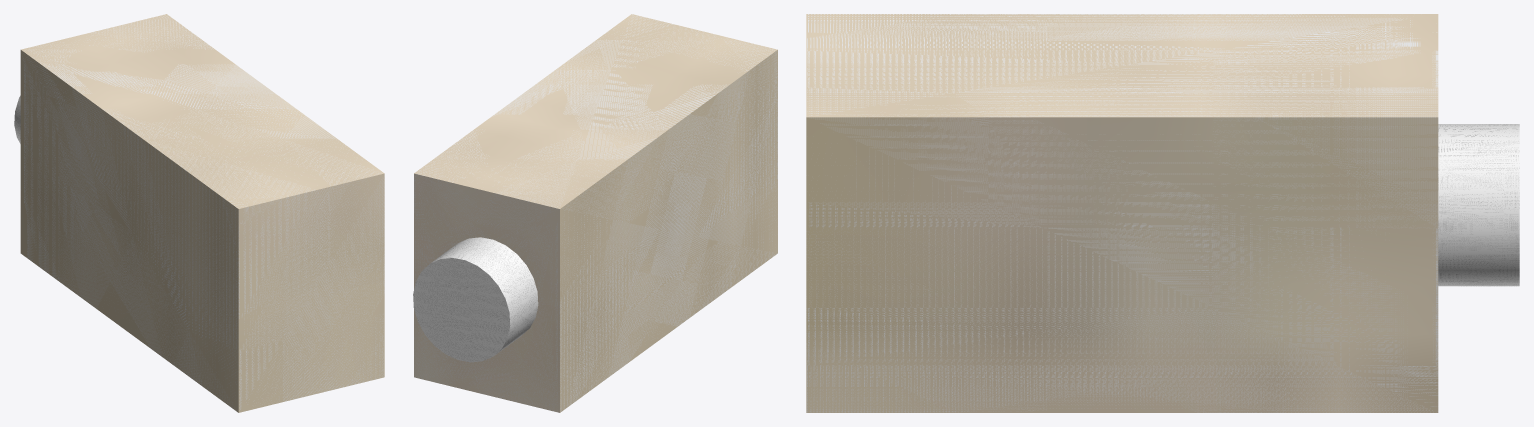
File: original-35.obj
3 renders of one model, left to right at view 1: azimuth 30°, elevation 25°; view 2: azimuth 150°, elevation 25°; view 3: azimuth 270°, elevation 25°, orthographic. The views are drawn at different scales.
Visible parts, largest first — view 1: Group_34_4/Group_34/mesh33/mesh33-geometry#mesh33-geometry; view 2: Group_34_4/Group_34/mesh33/mesh33-geometry#mesh33-geometry; view 3: Group_34_4/Group_34/mesh33/mesh33-geometry#mesh33-geometry.
Part boxes in pixels (<box>): Group_34_4/Group_34/mesh33/mesh33-geometry#mesh33-geometry: <box>14,14,384,412</box>; Group_34_4/Group_34/mesh33/mesh33-geometry#mesh33-geometry: <box>413,14,777,412</box>; Group_34_4/Group_34/mesh33/mesh33-geometry#mesh33-geometry: <box>806,14,1519,412</box>.
Bounding box in the file's own units: 0.0157 × 0.021 × 0.0459.
